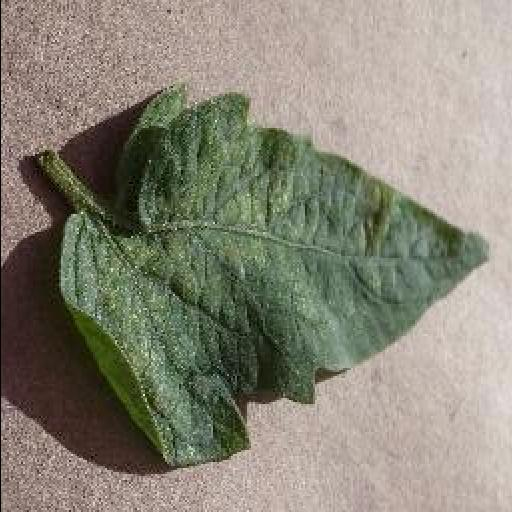disease_tomato: (56, 80, 492, 466)
